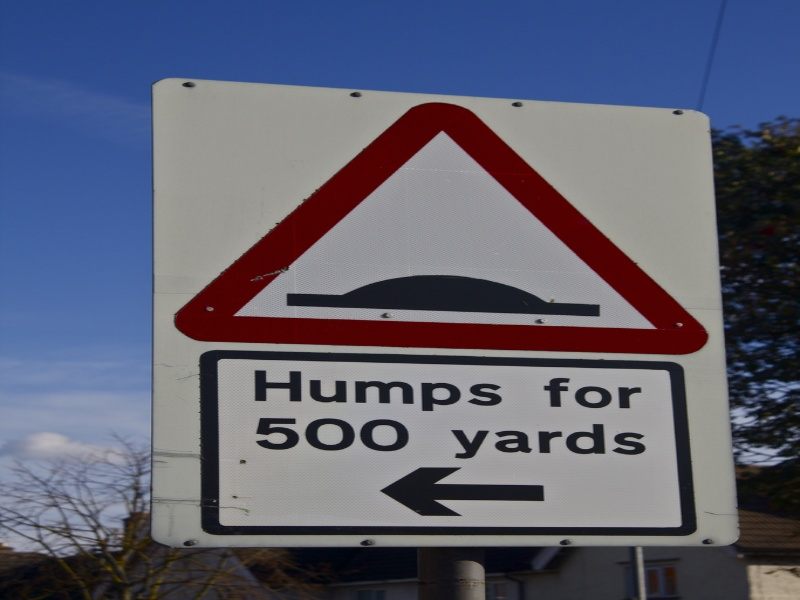speed_breaker: (163, 77, 715, 360), (373, 456, 556, 529)
